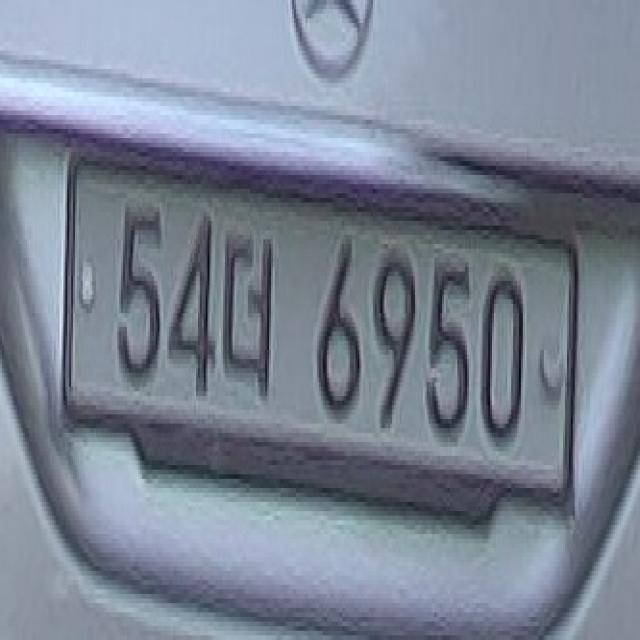0: (478, 248, 530, 470)
4: (165, 184, 227, 447)
5: (108, 185, 171, 392), (419, 244, 480, 447)
6: (313, 221, 375, 447)
9: (367, 216, 425, 456)
deo: (217, 212, 283, 410)
license_plate: (59, 143, 580, 534)
